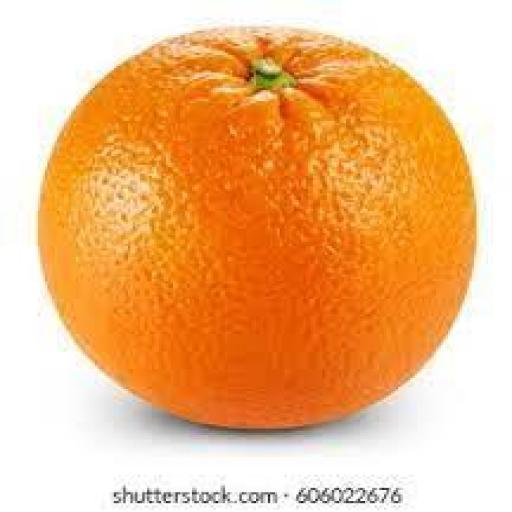orange: (41, 29, 474, 428)
